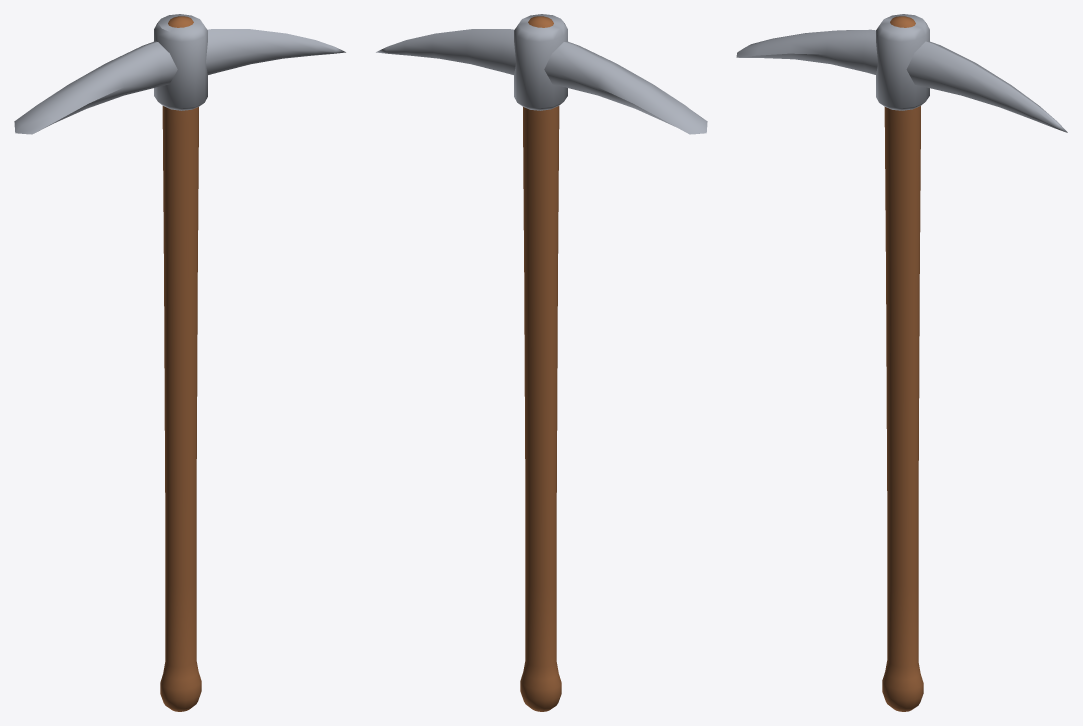
Rendered from pickaxe.glb.
3 views of the same model, side by side, from view 1: azimuth 30°, elevation 25°; view 2: azimuth 150°, elevation 25°; view 3: azimuth 330°, elevation 25° (orthographic).
Visible parts, largest first — view 1: Pickaxe; view 2: Pickaxe; view 3: Pickaxe.
Boxes of the visible parts, x1,y1,x2,y2 form: Pickaxe: (14,14,345,711); Pickaxe: (376,14,707,711); Pickaxe: (736,14,1067,711).
Size of the model in its own units: 0.45 by 0.9 by 0.068.
